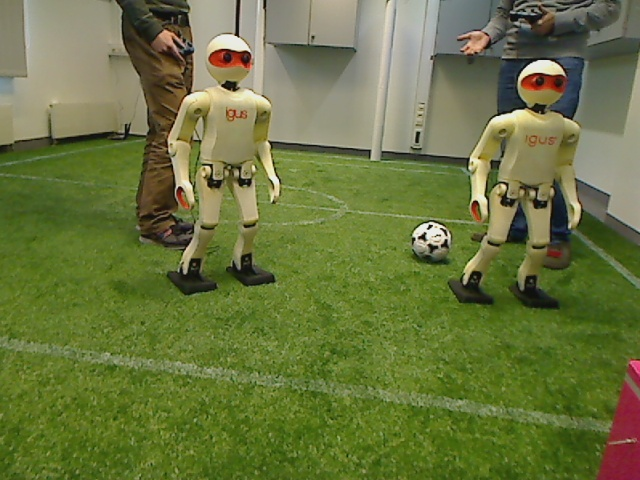ball: (407, 218, 454, 267)
robot: (455, 57, 580, 313), (166, 31, 286, 297)
